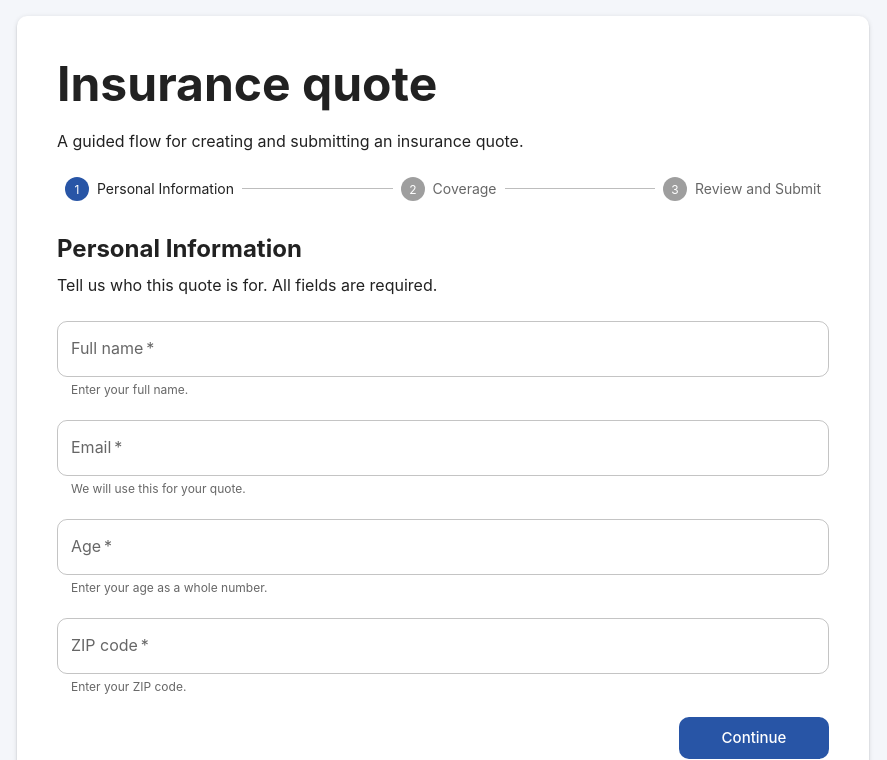
Scenario: PersonalInformationStep › renders labelled fields and client validation messages
This screenshot has width=887, height=760.
Expected: the heading "Personal Information" is shown, [57, 234, 302, 263]
Expected: the field labelled "Full name *" is shown, [57, 321, 829, 377]
Click the button "Continue".
click(754, 738)  # box [679, 717, 829, 759]
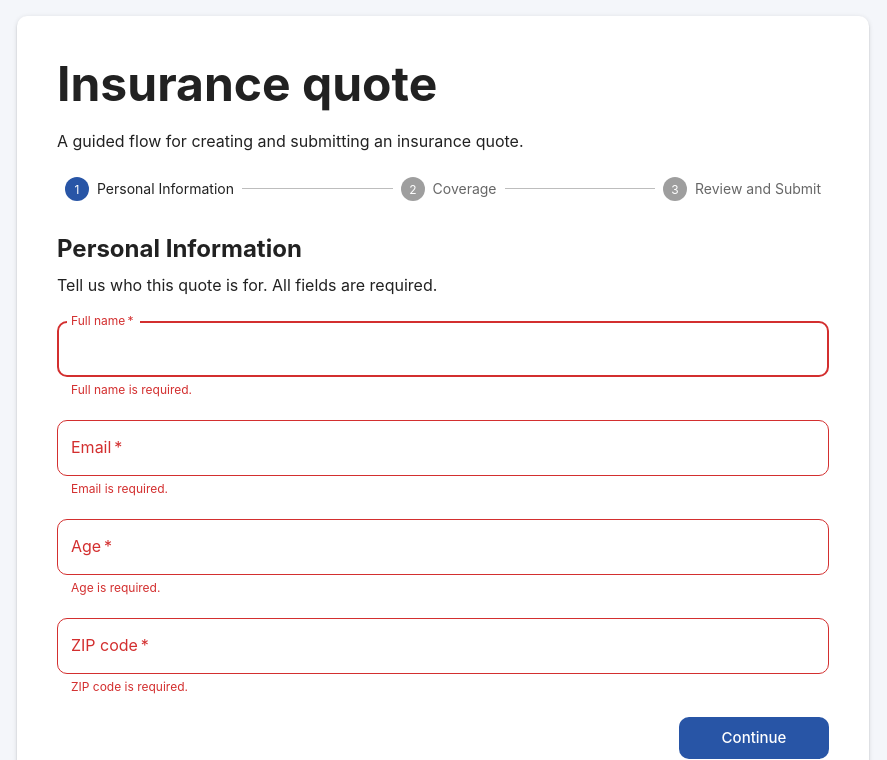
Now the text "Full name is required." is shown, box [71, 382, 192, 397]
Now the text "Email is required." is shown, box [71, 481, 168, 496]
Now the text "Age is required." is shown, box [71, 580, 160, 595]
